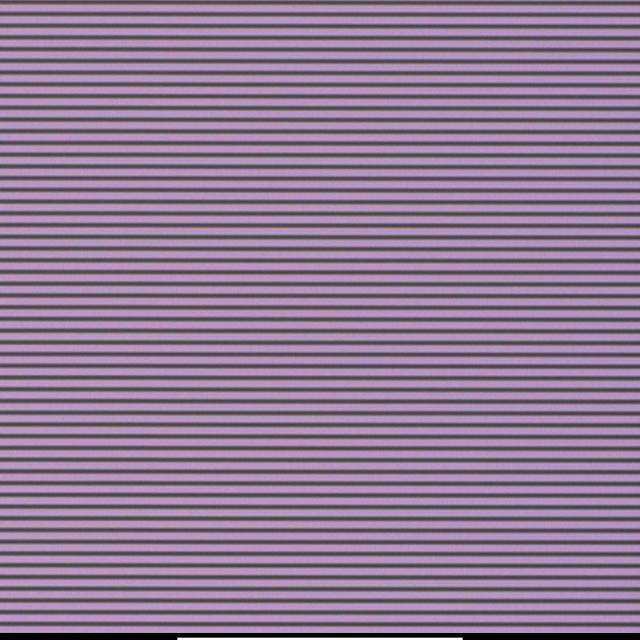nonvisual: (337, 331, 342, 336)
